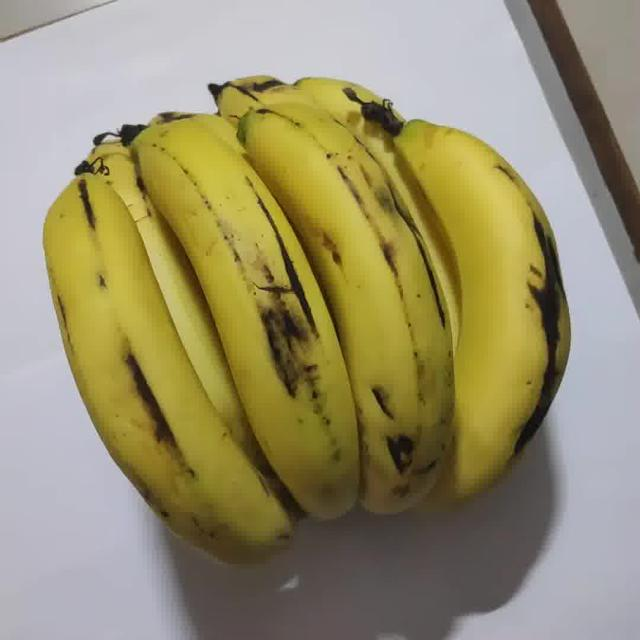banana_pacche: (30, 8, 594, 614)
